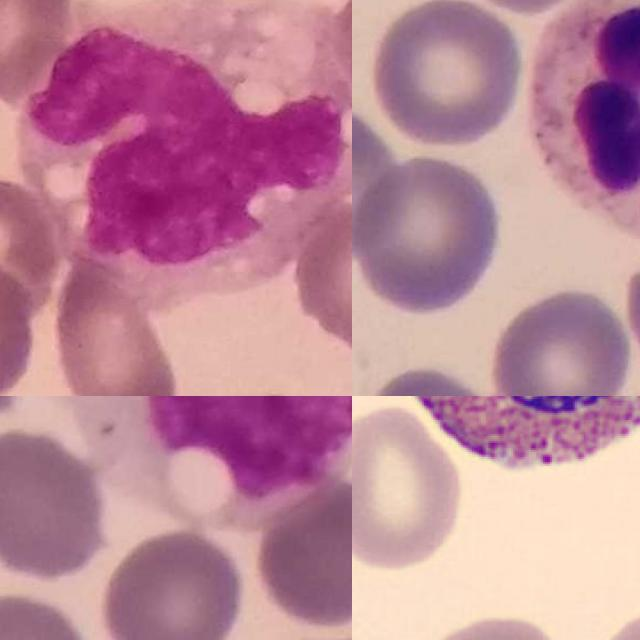Eosinophil: (379, 396, 640, 495)
Monocyte: (19, 0, 352, 271), (48, 396, 352, 500)
Neutrophil: (527, 0, 640, 235)
RBC: (352, 402, 467, 573), (408, 608, 582, 640), (587, 603, 640, 640)
